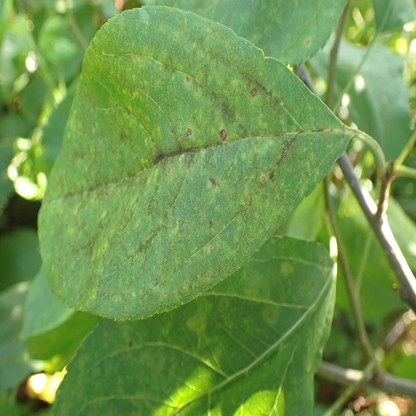scab: (38, 9, 347, 318), (56, 239, 324, 414), (151, 0, 346, 55)
